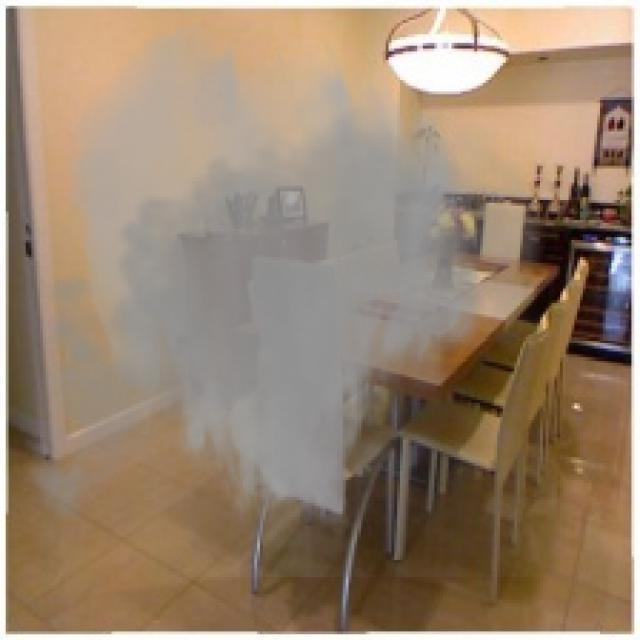Smoke: (9, 20, 558, 577)
